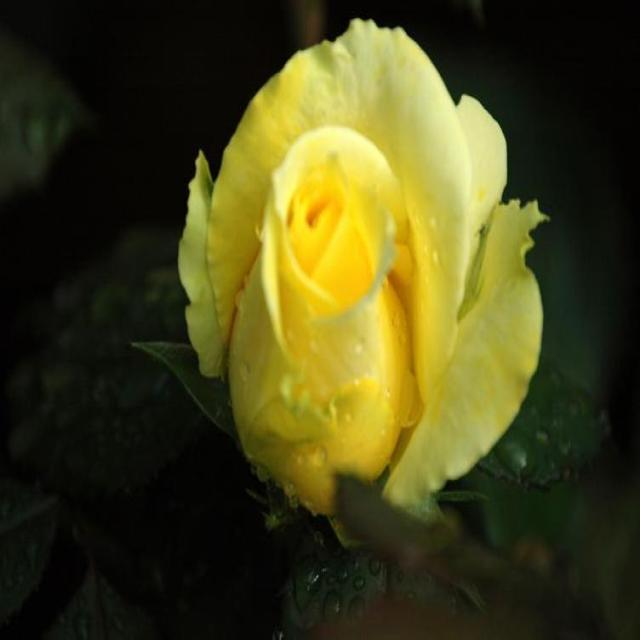rose: (148, 6, 574, 550)
